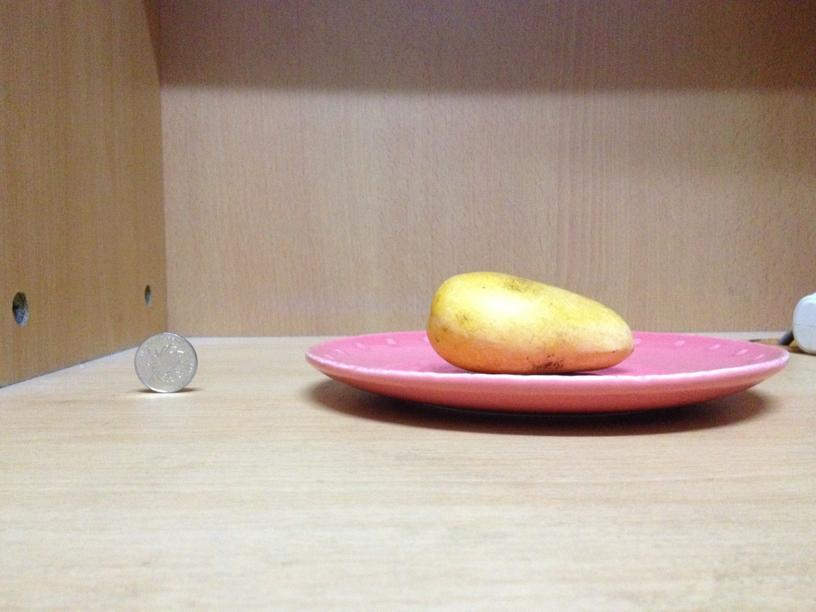coin: (132, 330, 196, 394)
mango: (422, 272, 636, 371)
